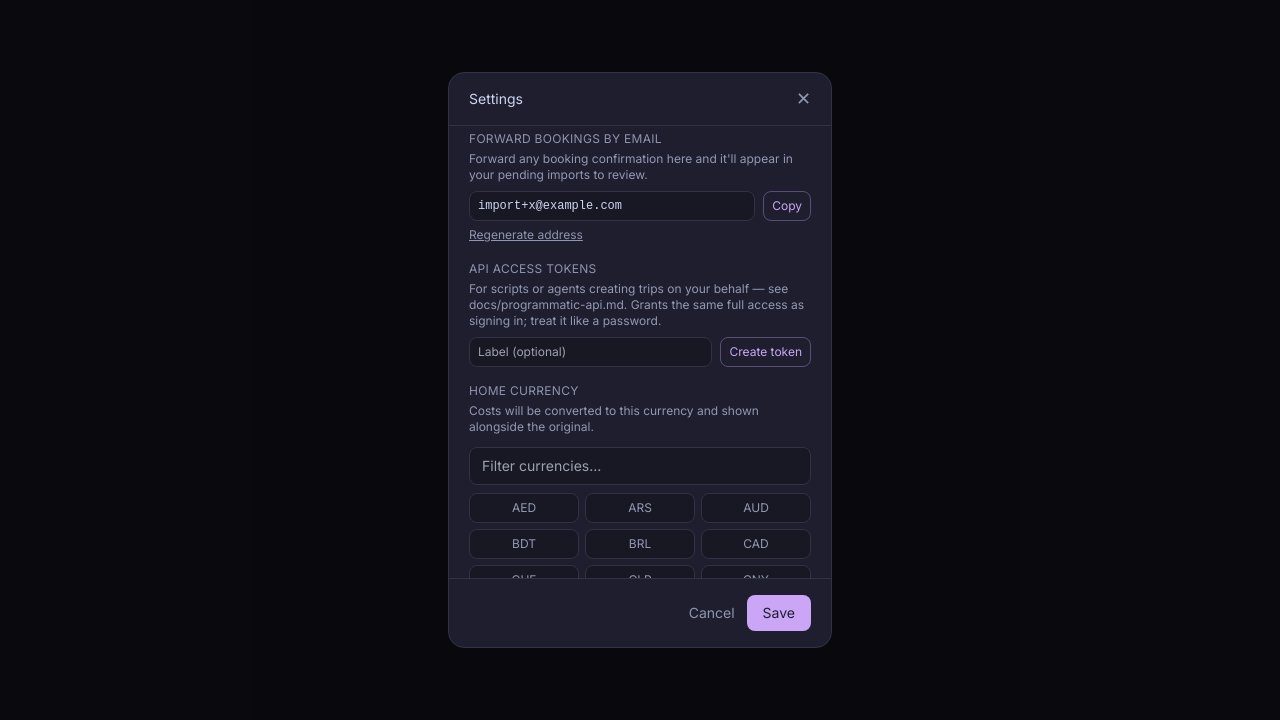
it: API access tokens › creates a token, shows the secret once with a copy button, and refreshes the list
The width and height of the screenshot is (1280, 720).
(page scrolled)
Expected: the text "import+x@example.com" is shown, [469,191,755,221]
Type "agent" into the field with placeholder "Label (optional)" at [591, 352], box [469,337,712,367]
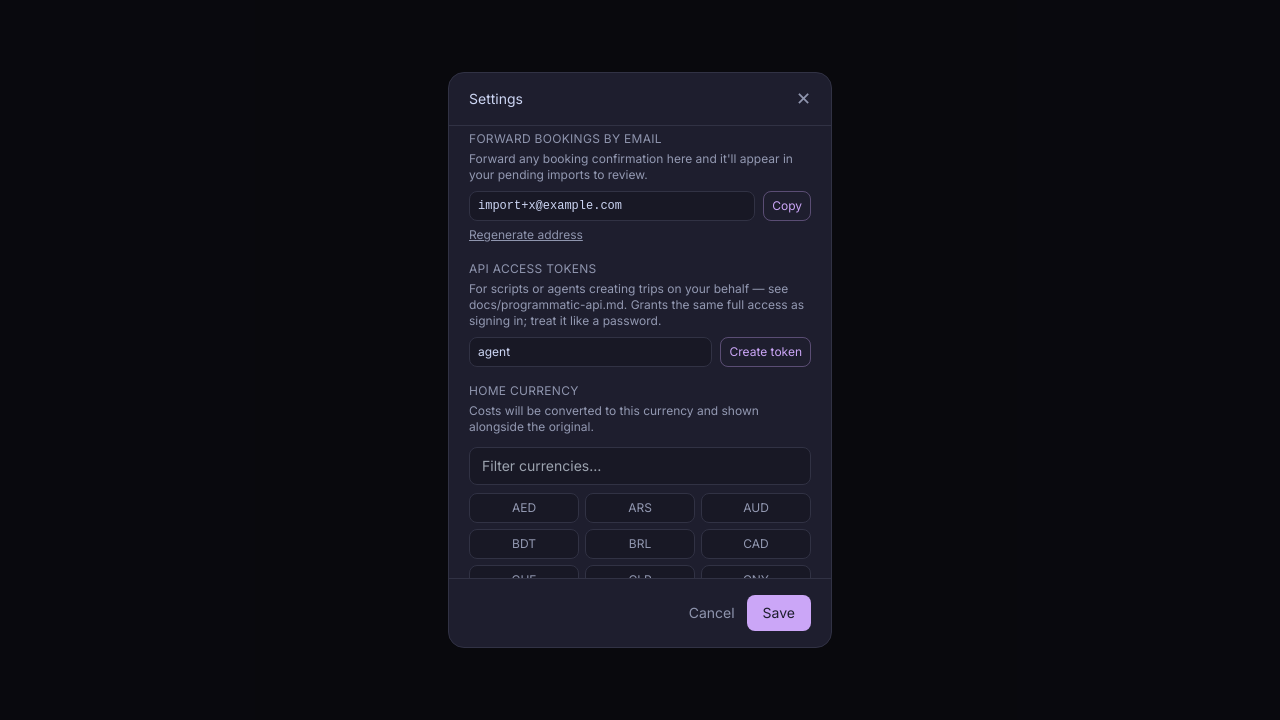
Click the button "Create token" at [766, 352], box [720,337,811,367]
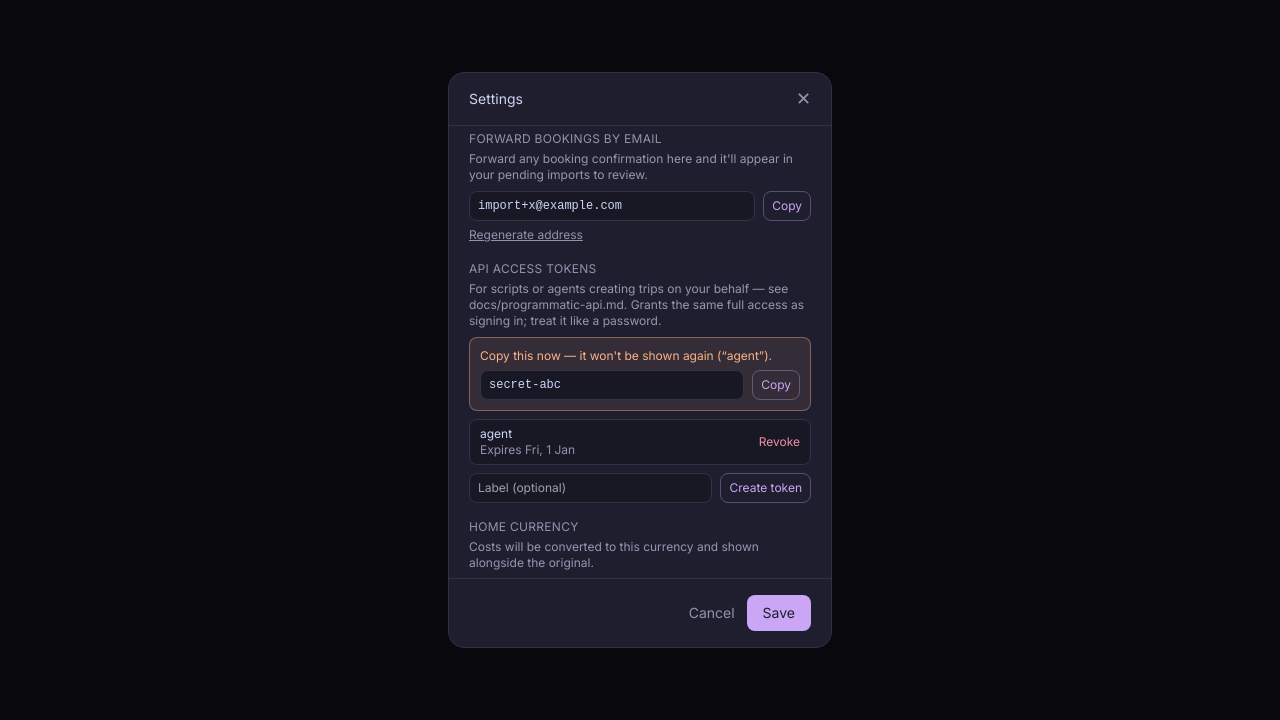
Expected: the text "secret-abc" is shown, [480,370,744,400]
Expected: the text "agent" is shown, [480,426,512,441]
